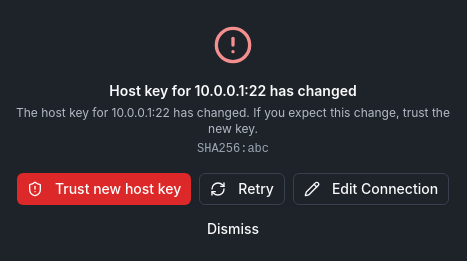
Test: FailedTerminal › host key mismatch › shows the backend error and does not retry when forgetting fails
Click the button with test id "trust-host-key-button" at (104, 189), box [17,173,191,205]
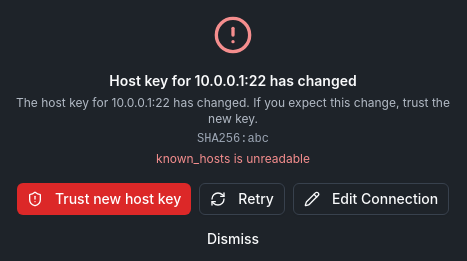
Check: the text "known_hosts is unreadable" is shown, box [156,151,310,166]
